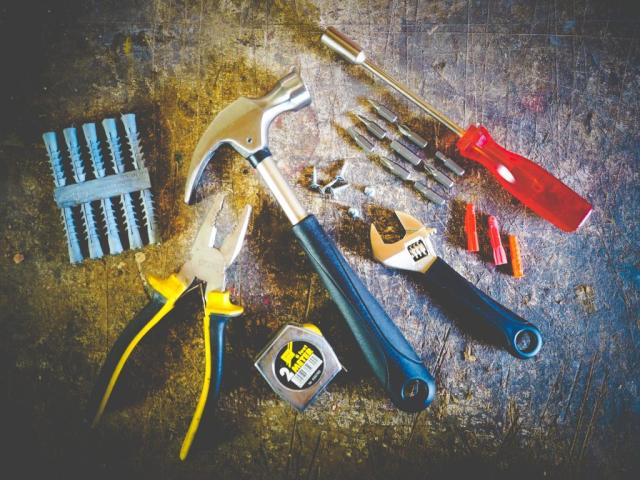Adjustable spanner: (370, 210, 542, 358)
Hammer: (185, 71, 435, 411)
Pliers: (88, 194, 251, 458)
Screwdriver: (321, 26, 592, 232)
Tape measure: (255, 322, 344, 412)
